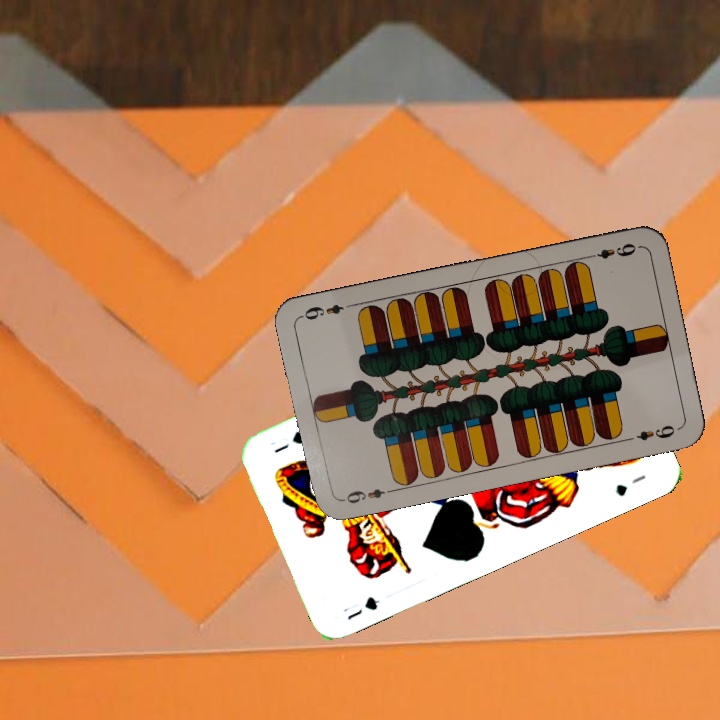E9: (582, 239, 639, 262), (337, 484, 396, 506)
GU: (339, 592, 383, 623)
